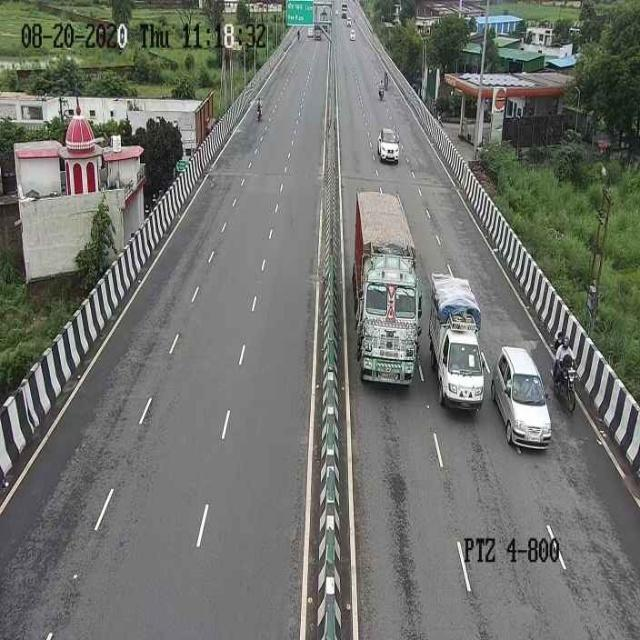car: (430, 271, 491, 420), (493, 337, 554, 453), (375, 125, 403, 165)
